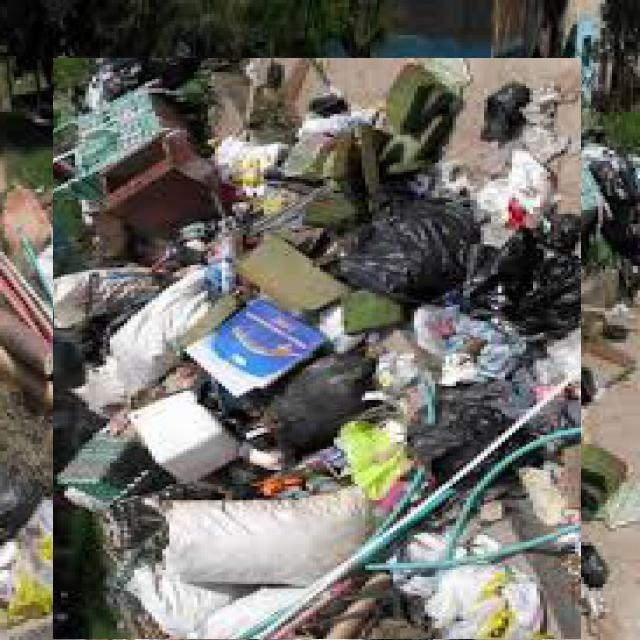Trashbag: (409, 402, 532, 486), (349, 206, 467, 292), (268, 354, 372, 443)
